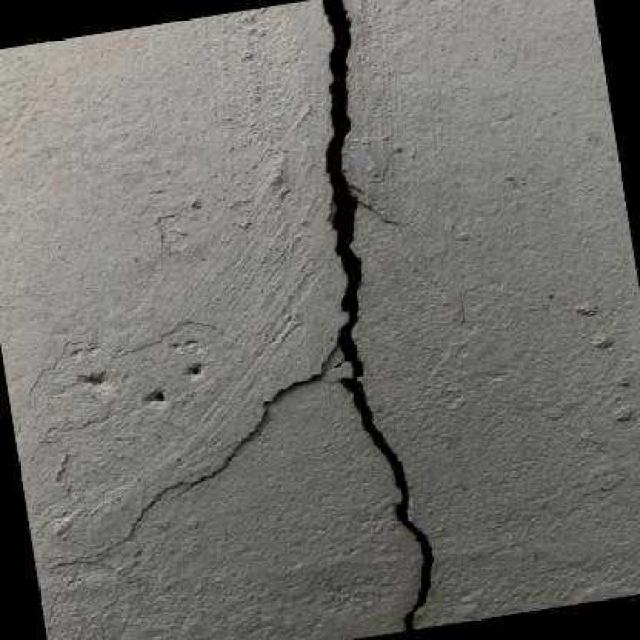D00: (112, 0, 434, 631)
